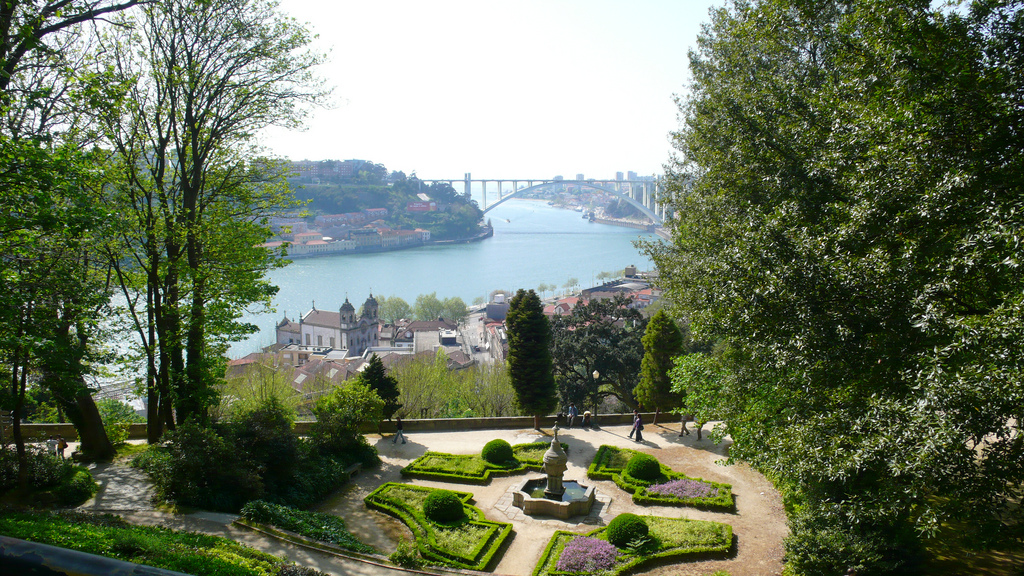arrabida: (420, 173, 688, 226)
